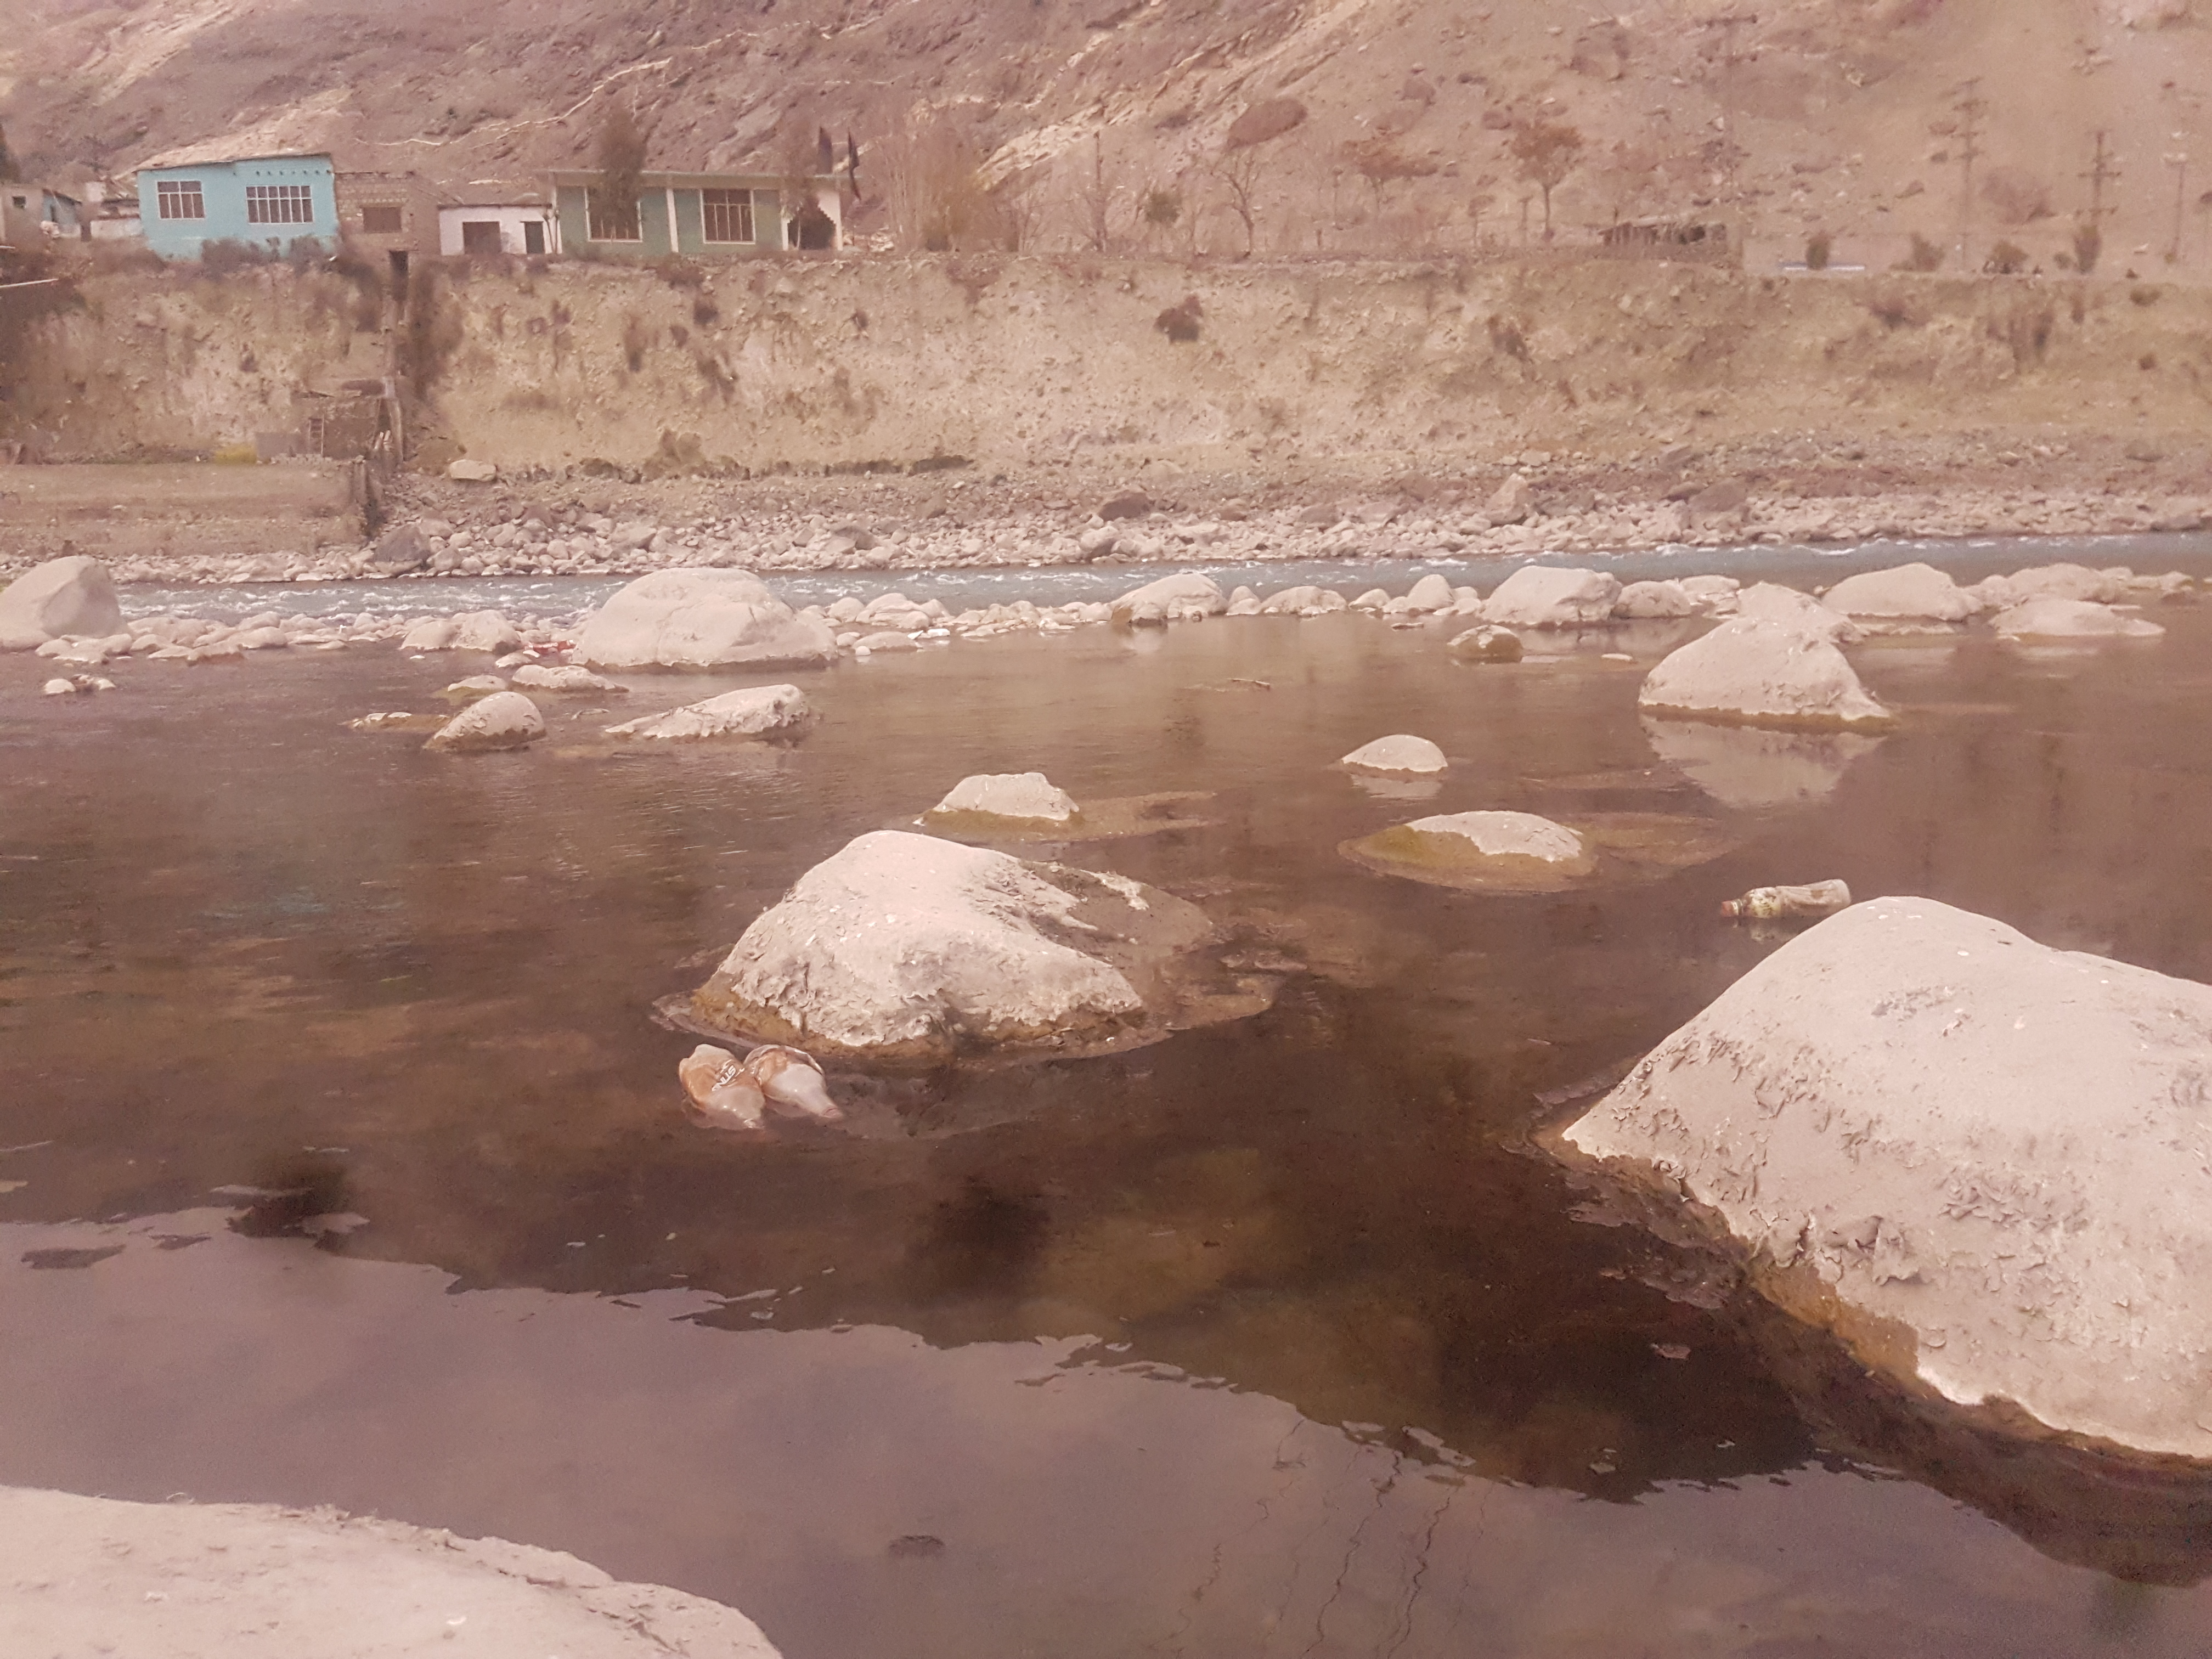Plastic Bottle: (678, 1044, 765, 1131), (742, 1044, 841, 1117), (1721, 878, 1851, 918), (528, 638, 573, 652)
